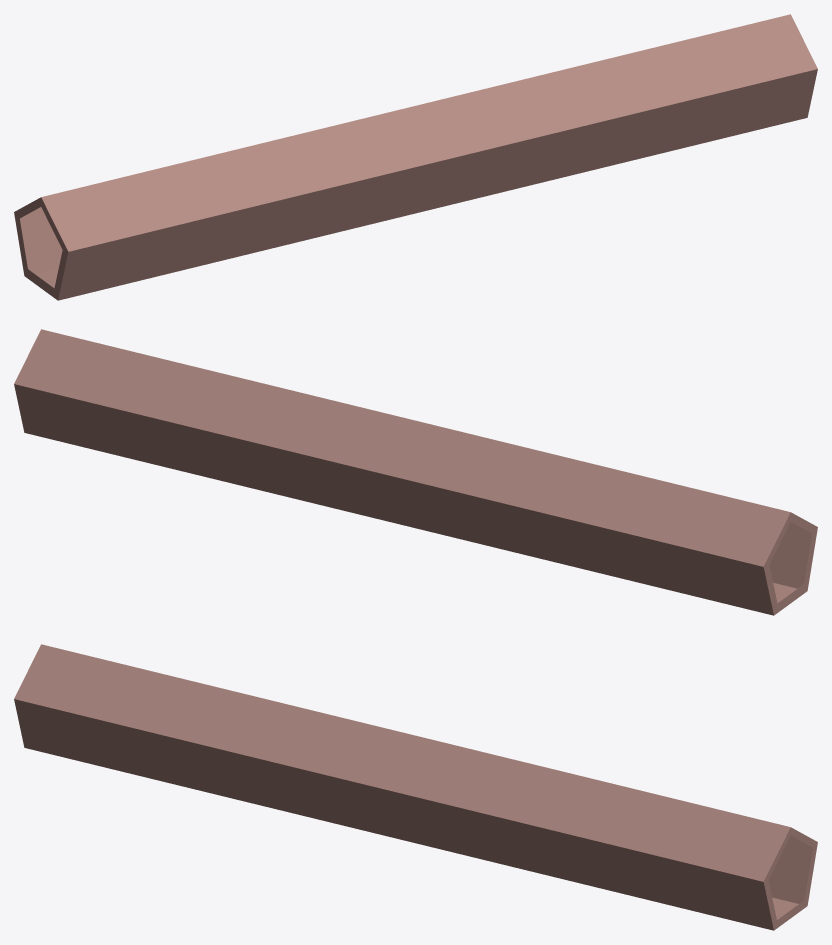
File: log.fbx
3 renders of one model, top to bottom at view 1: azimuth 30°, elevation 25°; view 2: azimuth 150°, elevation 25°; view 3: azimuth 330°, elevation 25°, orthographic.
Parts seen in each view (by area): view 1: pasted__pCylinder2; view 2: pasted__pCylinder2; view 3: pasted__pCylinder2.
Boxes of the visible parts, x1,y1,x2,y2 form: pasted__pCylinder2: (14, 14, 817, 300); pasted__pCylinder2: (14, 329, 817, 615); pasted__pCylinder2: (14, 644, 817, 930).
Size of the model in its own units: 11.77 by 1.37 by 1.48.
